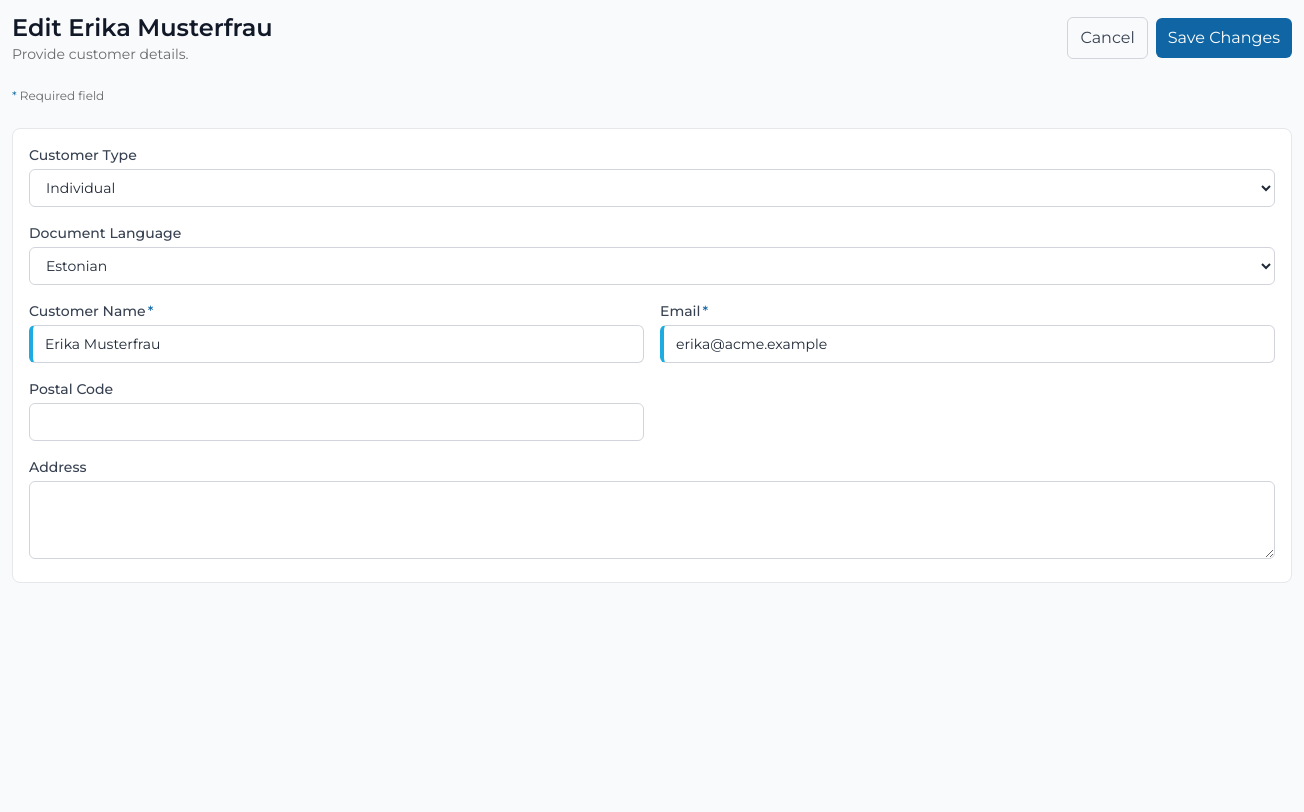
it: CustomerForm classification › loads an Individual customer whose optional fields are null without crashing, and lets it be switched to Business
expect the field labelled "Postal Code" is empty: met, box top-left (29, 403), bottom-right (644, 441)
expect the text box labelled "Address" is empty: met, box top-left (29, 481), bottom-right (1275, 559)
Select "Business" in the dropdown labelled "Customer Type" at (652,188), box top-left (29, 169), bottom-right (1275, 207)
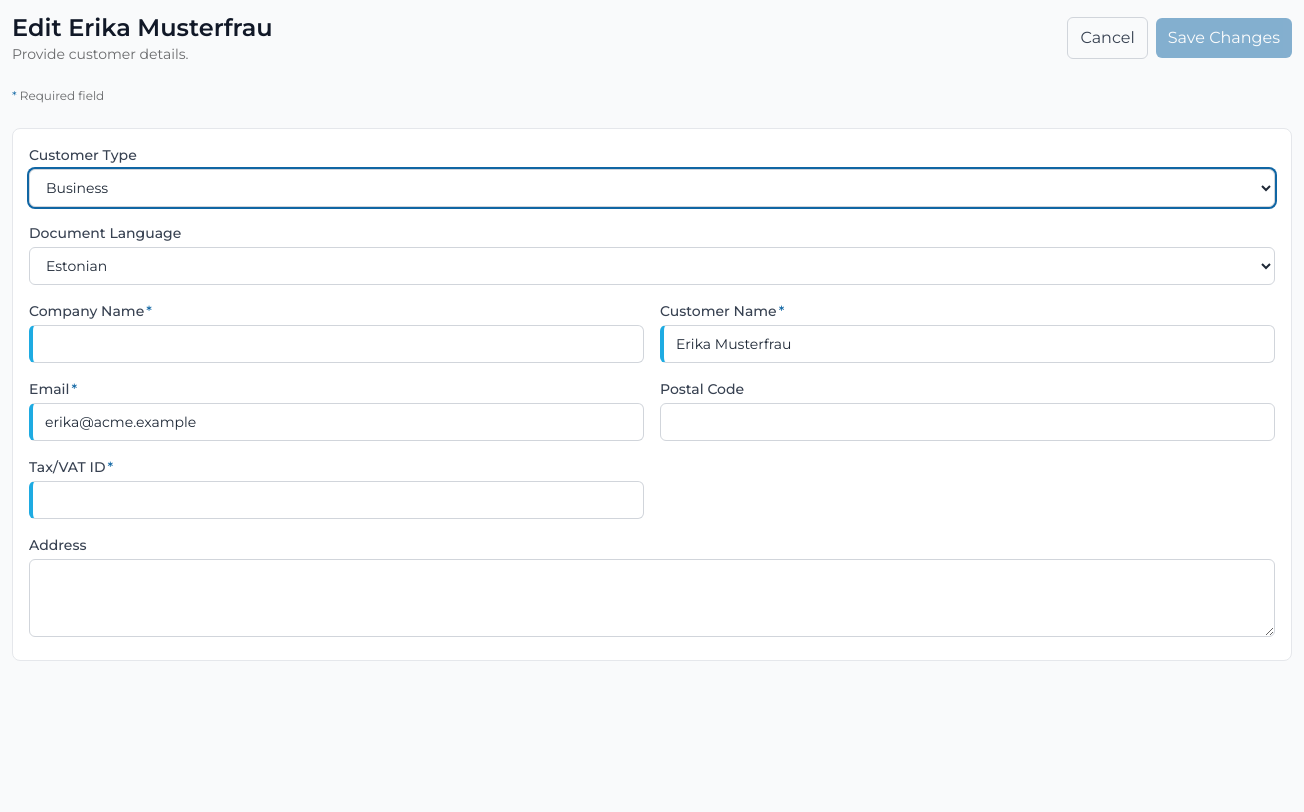
expect the field labelled "Company Name" is empty: met, box top-left (29, 325), bottom-right (644, 363)
expect the field labelled "Tax/VAT ID" is empty: met, box top-left (29, 481), bottom-right (644, 519)
expect the button "Save Changes" is disabled: met, box top-left (1156, 18), bottom-right (1292, 58)
